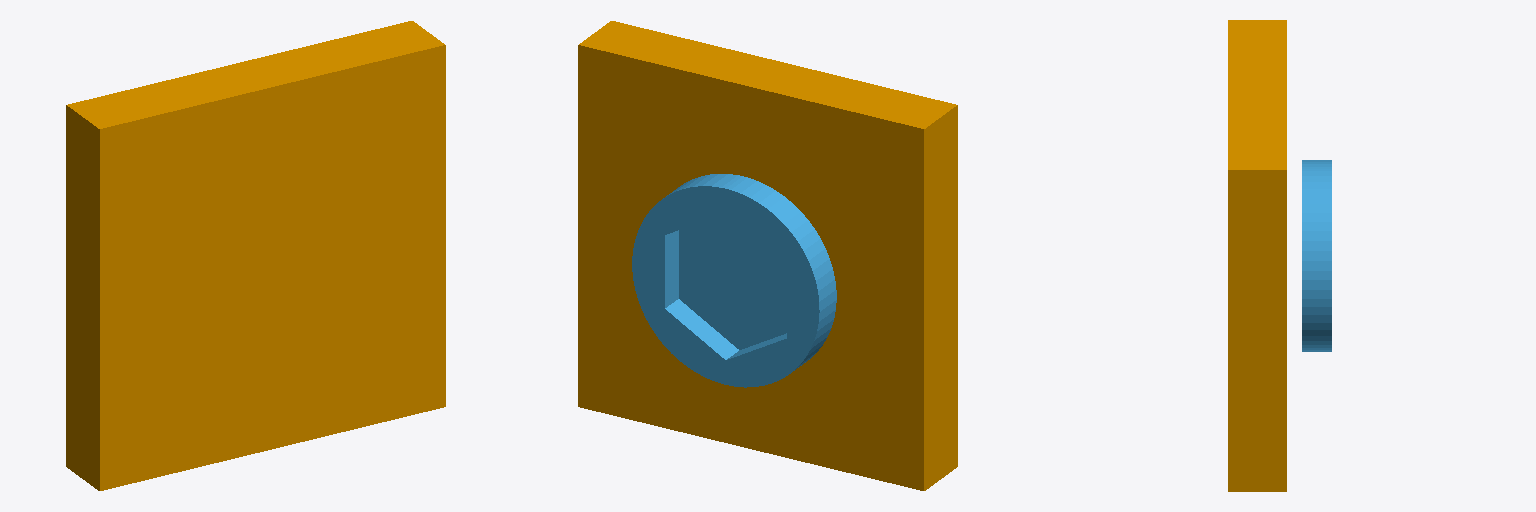
robot.urdf — hex_screw_base:
<?xml version="1.0"?>
<robot name="hex_screw_base">

  <link name="base">
    <visual>
      <origin xyz="0 0.01 0" rpy="0 0 0"/>
      <geometry>
        <box size="0.12 0.02 0.12"/>
      </geometry>
    </visual>	
    <collision>
      <origin xyz="0 0.01 0" rpy="0 0 0"/>
      <geometry>
        <box size="0.12 0.02 0.12"/>
      </geometry>
    </collision>
  </link>

  <link name="screw">
    <visual>
      <origin xyz="0 0 0" rpy="0 0 0"/>
      <geometry>
        <mesh filename="hex_screw/screw_head.obj" scale="0.001625 0.001625 0.001625"/>
      </geometry>
    </visual>	
    <collision>
      <origin xyz="0 0 0" rpy="0 0 0"/>
      <geometry>
        <mesh filename="hex_screw/screw_head.obj" scale="0.001625 0.001625 0.001625"/>
      </geometry>
    </collision>
  </link>

  <joint name="screw_to_base" type="revolute">
    <parent link="base"/>
    <child link="screw"/>
    <origin xyz="0 0.025 0"/>
    <axis xyz="0 1 0"/>
    <limit lower="-3.14" upper="3.14" effort="100" velocity="3"/>
  </joint>

</robot>

--- What the picture shows (computed from the rendered views, not written in the file) ---
3 views of the same robot in one strip: view 1: azimuth 30°, elevation 25°; view 2: azimuth 150°, elevation 25°; view 3: azimuth 270°, elevation 25° (orthographic).
Robot: hex_screw_base — 2 links, 1 joints (1 revolute); root link base; default pose: every joint at zero.
Links seen in each view (by area): view 1: base; view 2: base, screw; view 3: base, screw.
Link boxes in pixels (box(x1,y1,x2,y2)): base: box(66, 21, 445, 490); base: box(578, 21, 957, 490); screw: box(632, 174, 836, 387); base: box(1228, 20, 1286, 491); screw: box(1302, 160, 1331, 351).
Bounding box of the posed robot: 0.12 × 0.0353 × 0.12 m (x, y, z).
Meshes: 1 distinct files referenced, 1 mesh visuals loaded (1 OBJ).